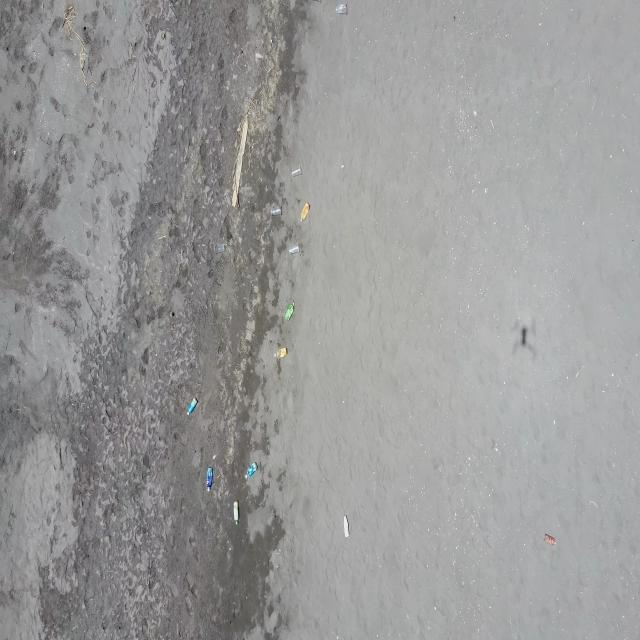plastic-bottle: (284, 301, 294, 321), (245, 463, 257, 479), (206, 468, 214, 492), (187, 398, 197, 417), (300, 203, 310, 222), (274, 346, 288, 358), (343, 516, 351, 537), (233, 502, 240, 525)
takeaway-cup: (289, 243, 300, 255), (270, 205, 282, 216), (336, 4, 348, 15), (291, 168, 302, 178), (214, 244, 225, 254)
